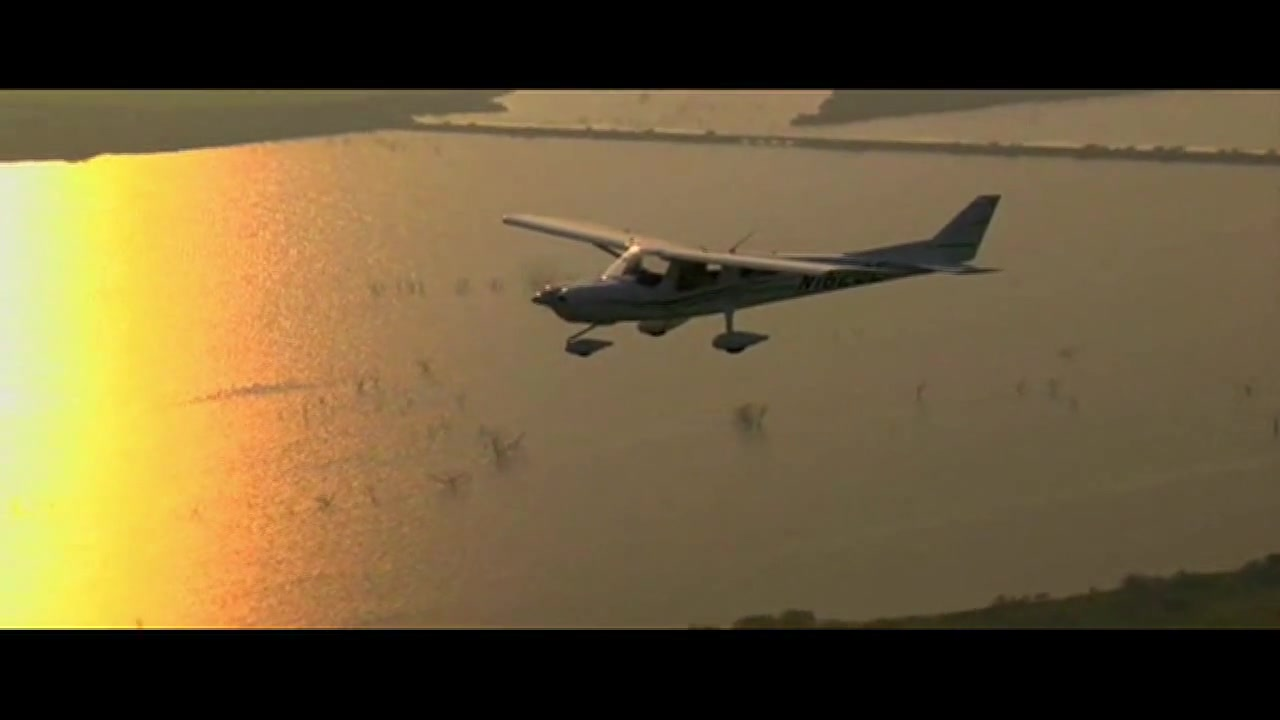aeroplane: (499, 190, 1004, 362)
